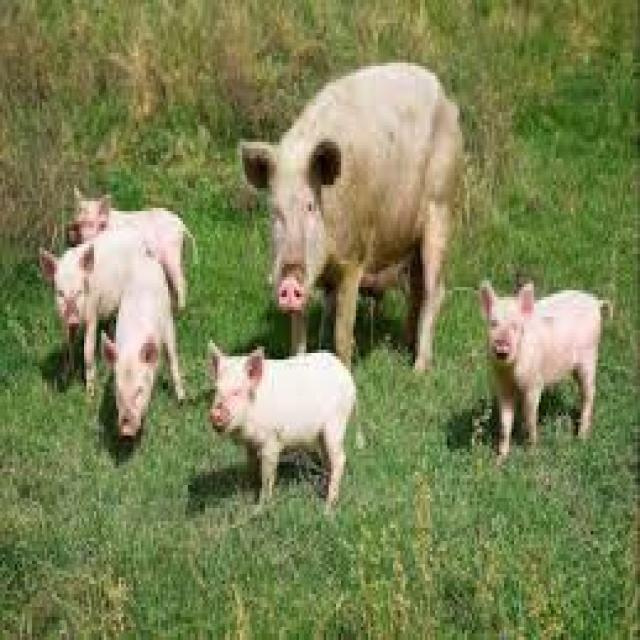Pig: (229, 51, 463, 370), (200, 332, 361, 514), (476, 268, 614, 458), (37, 236, 190, 386), (66, 179, 201, 297), (106, 249, 186, 442)
